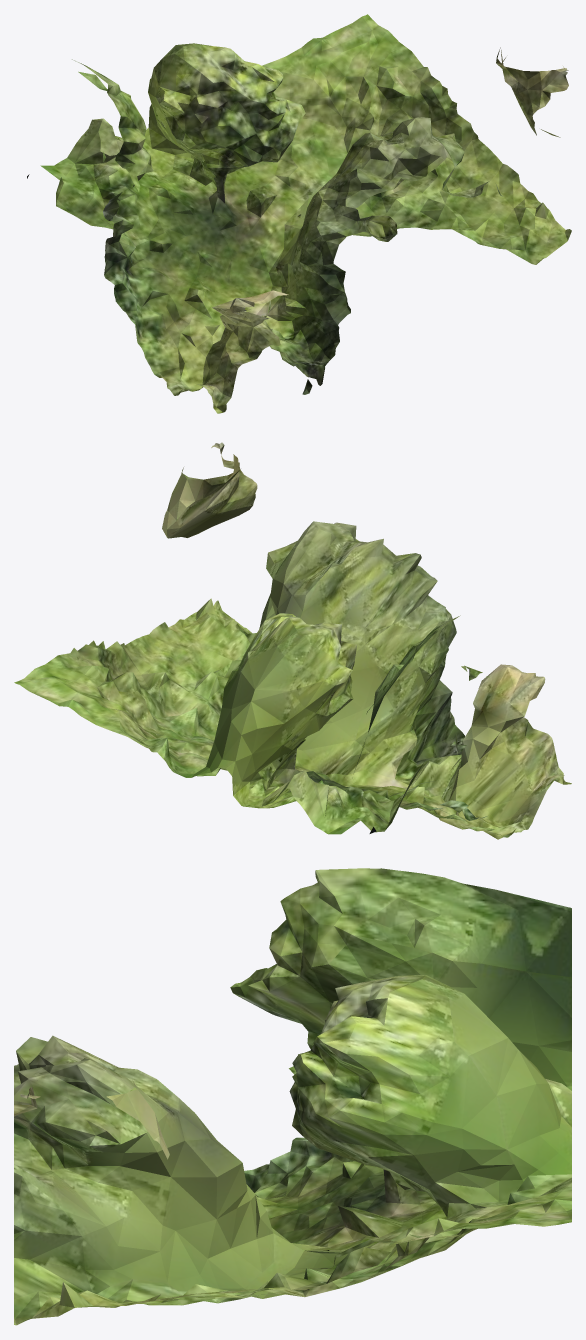
The picture shows the model from 3 angles, top to bottom: view 1: azimuth 30°, elevation 25°; view 2: azimuth 150°, elevation 25°; view 3: azimuth 270°, elevation 25°; orthographic projection. The views are drawn at different scales.
Size of the model in its own units: 26.11 by 19.15 by 26.11.
Materials: 5 (5 with a texture image).
